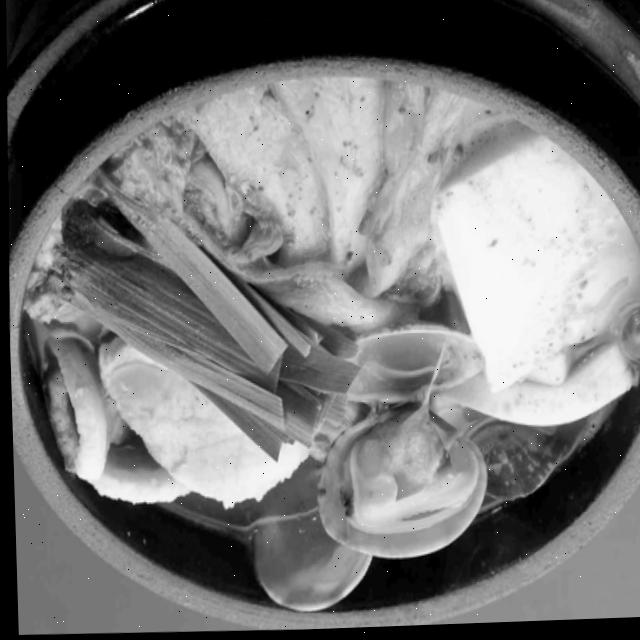熟制海鲜: (14, 602, 42, 635)
